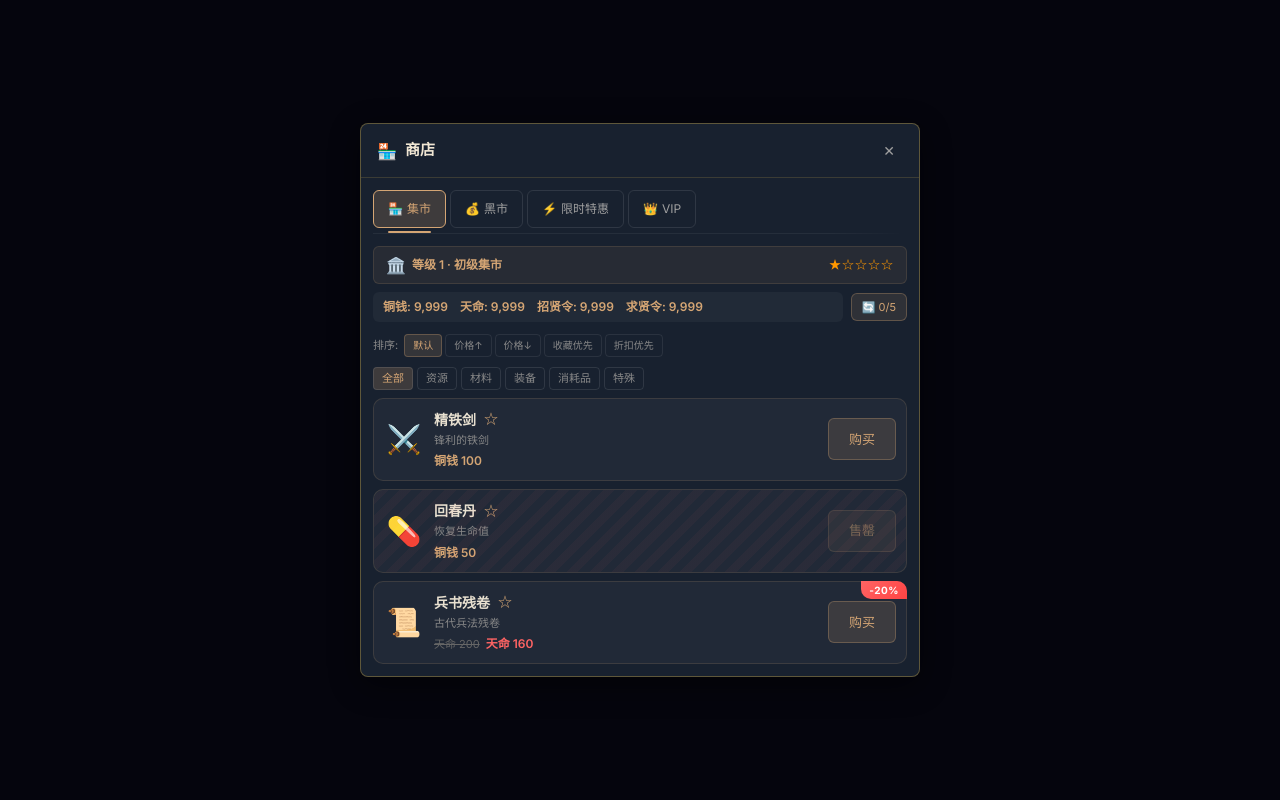
Test: ShopPanel 深度集成测试 (IC-10) › IC-10-02: 购买流程集成 › IC-10-02-01: 点击购买按钮弹出确认弹窗
Expected: the element with test id "shop-panel-goods-goods_001" is shown, [373,398,907,481]
Step 1. Click the button with test id "shop-panel-buy-goods_001" → click(862, 439), box [828,418,896,460]
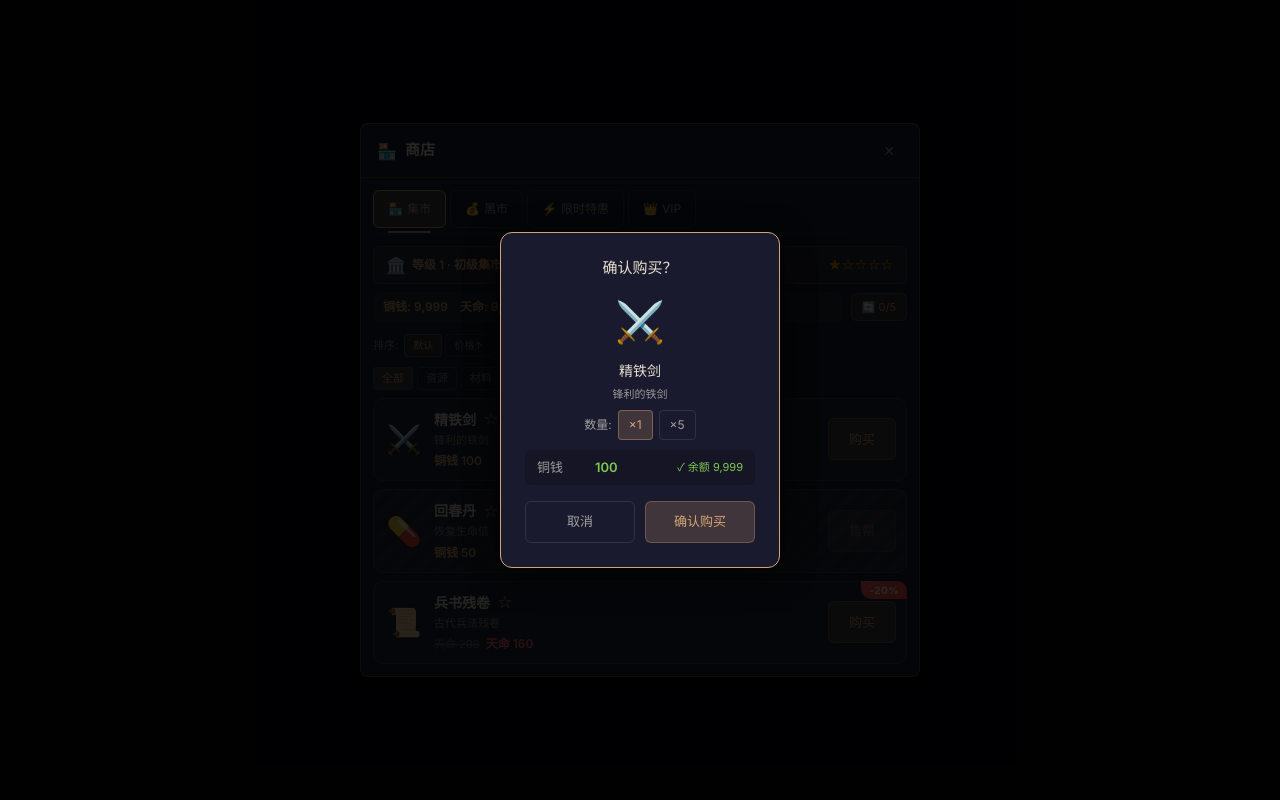
Expected: the element with test id "shop-panel-confirm-dialog" is shown, [500,232,780,568]
